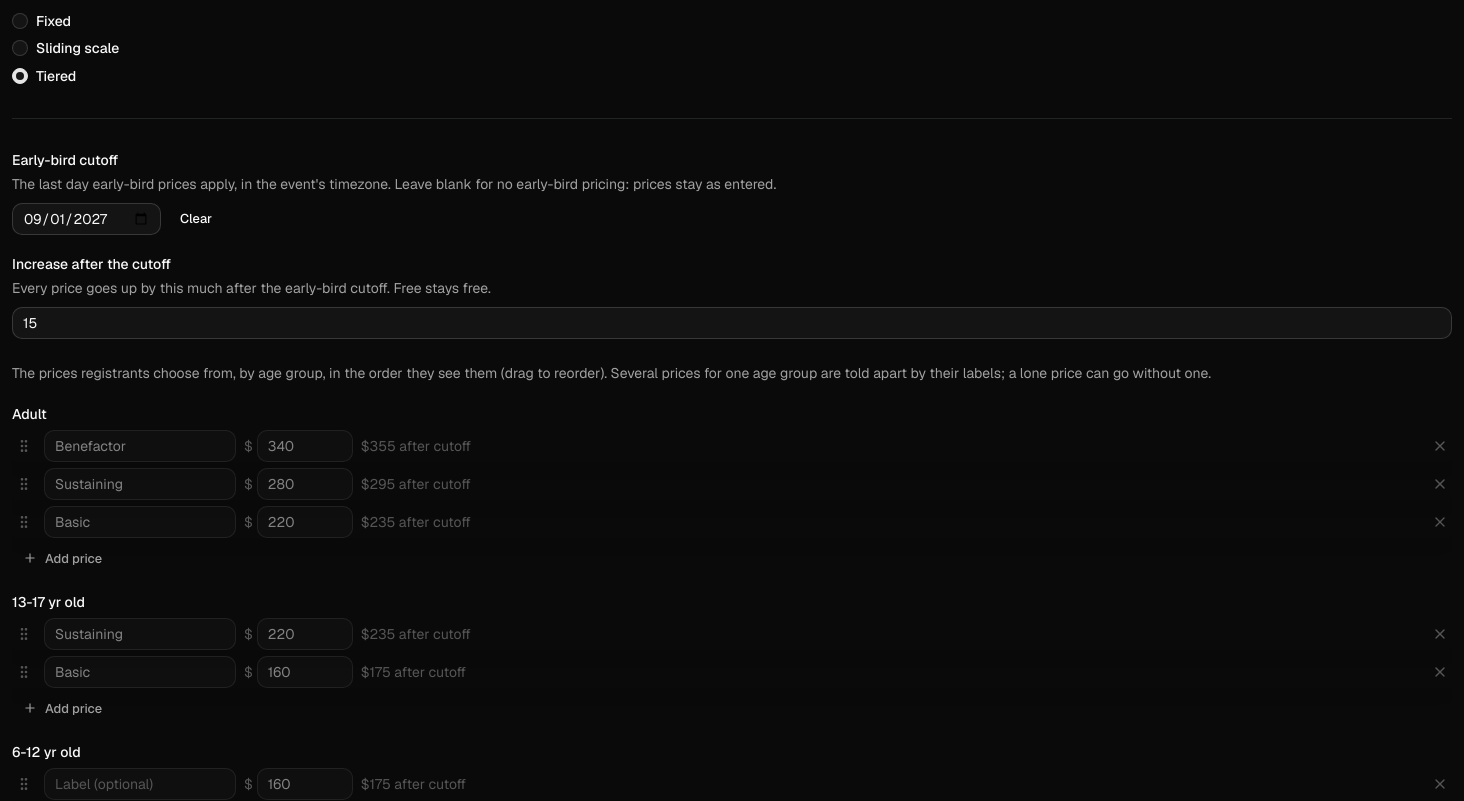
AdmissionsForm › tiered › early-bird cutoff › flags a half-typed date rather than saving it as blank
Clear the date field with id "admissions-earlybird-cutoff" at x=86, y=219, box [12, 203, 161, 235]
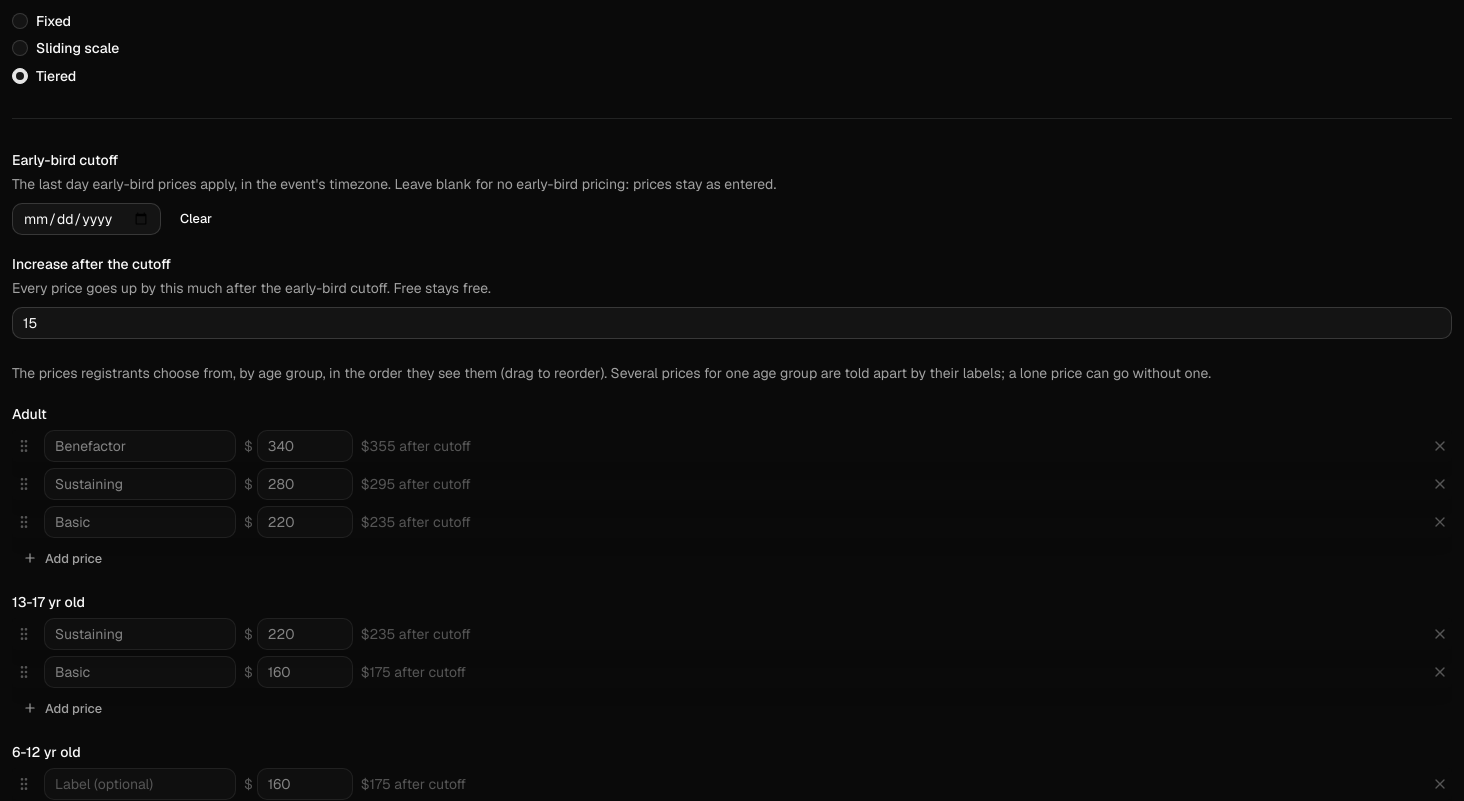
Leave the date field with id "admissions-earlybird-cutoff", box [12, 203, 161, 235]
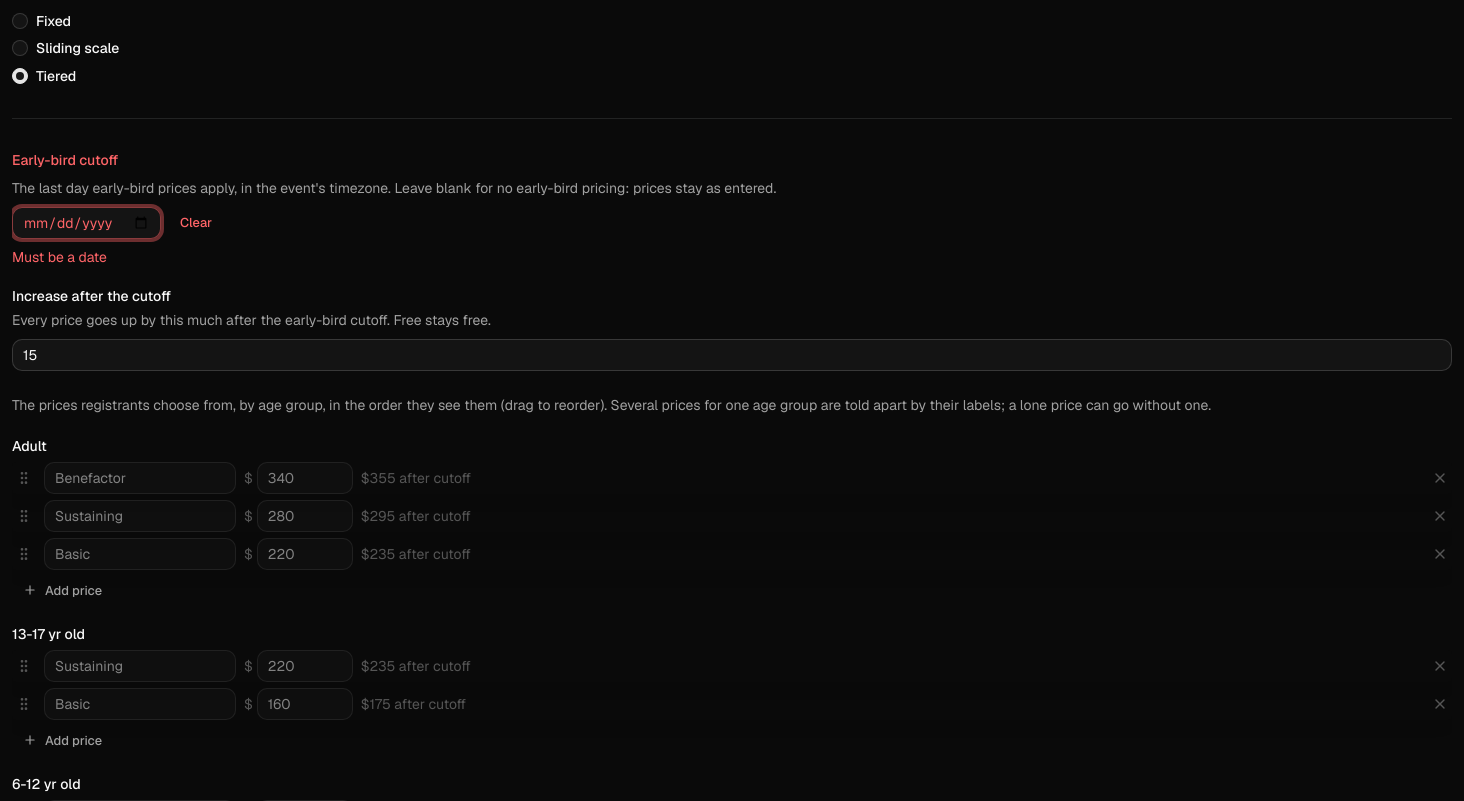
Check: the text "Must be a date" is shown, box [12, 248, 107, 266]
